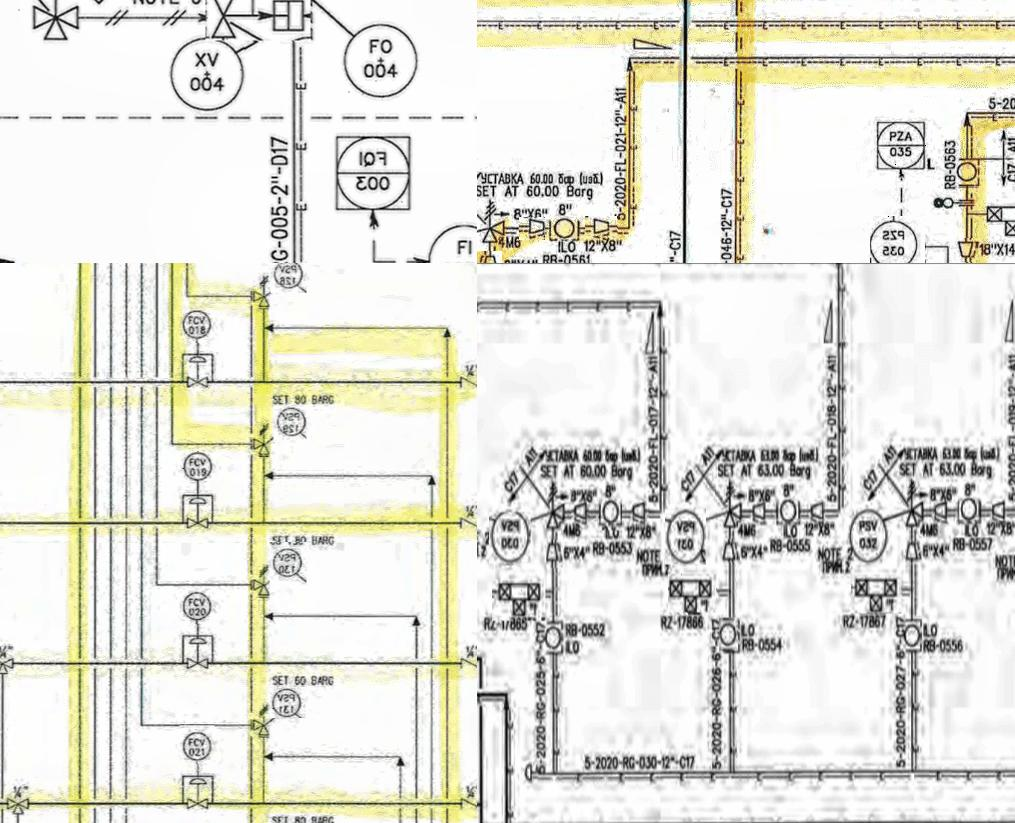2 WAY VALVE: (984, 199, 1015, 241)
3 WAY BALL VALVE: (1, 792, 32, 817), (0, 653, 17, 677)
3 WAY GENERAL VALVE: (18, 0, 88, 47)
ANGLE RELIEF VALVE: (477, 197, 508, 253), (247, 417, 274, 465), (247, 265, 270, 319), (249, 556, 272, 607), (249, 705, 276, 744)
CONCENTRIC REDUCER: (586, 217, 619, 238), (519, 218, 545, 242), (957, 238, 978, 262), (478, 251, 504, 263)
DCS ACCESSIBLE: (330, 130, 416, 220), (871, 111, 930, 174)
DIAPHRAGM ACTUATED VALVE: (184, 634, 214, 684), (182, 353, 214, 396), (185, 492, 210, 544), (184, 776, 214, 817)
FIELD INSTRUMENT: (168, 35, 244, 113), (343, 20, 423, 94), (870, 217, 925, 263), (270, 542, 306, 585), (178, 308, 217, 344), (180, 724, 215, 764), (178, 446, 216, 482), (180, 589, 215, 625), (273, 406, 306, 441), (269, 688, 305, 718), (270, 263, 306, 293), (550, 218, 582, 248), (955, 163, 982, 188)
PISTON ACTUATED VALVE: (205, 0, 311, 42)
SPECTACLE BLIND OPEN: (928, 196, 987, 214)
